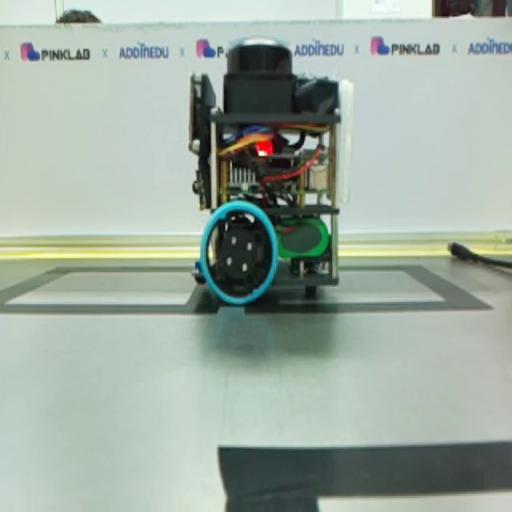pinky_63: (188, 37, 350, 305)
